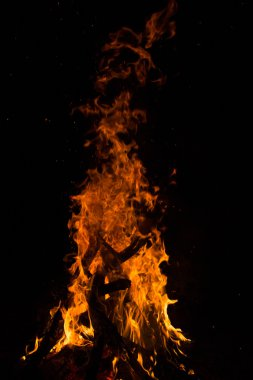fire: (59, 205, 179, 353)
